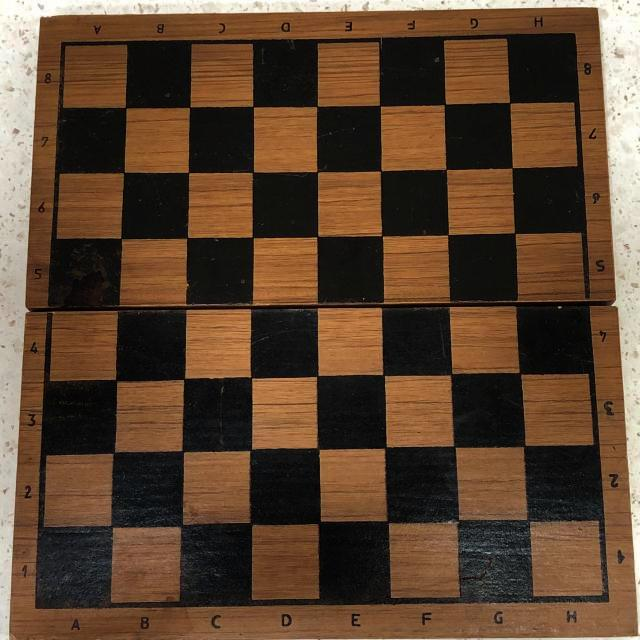chess-table-corners: (593, 582, 615, 614), (562, 24, 584, 52), (54, 32, 77, 55), (28, 595, 48, 617)
